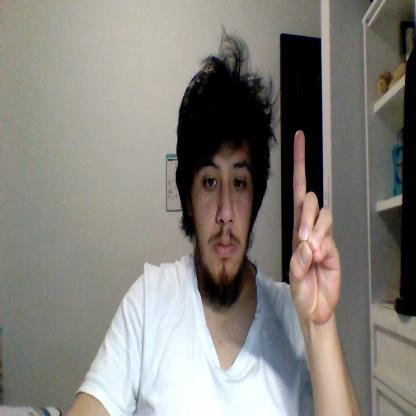D: (289, 131, 341, 320)
